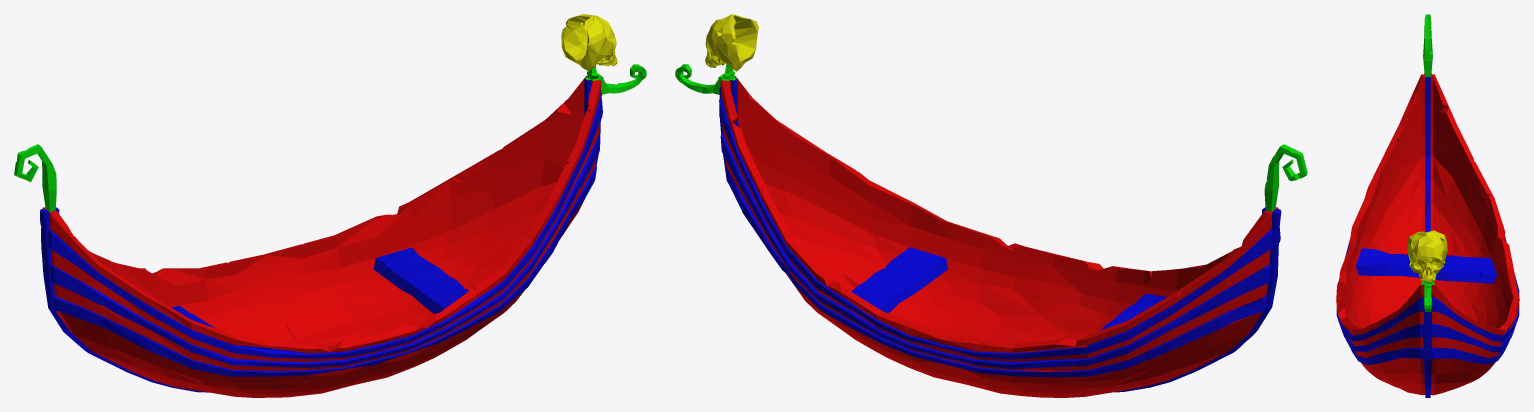
File: barca.fbx
The picture shows the model from 3 angles, left to right: view 1: azimuth 30°, elevation 25°; view 2: azimuth 150°, elevation 25°; view 3: azimuth 270°, elevation 25°; orthographic projection. The views are drawn at different scales.
Parts seen in each view (by area): view 1: boat_final; view 2: boat_final; view 3: boat_final.
Part boxes in pixels (x1=…): boat_final: x1=14, y1=14, x2=646, y2=397; boat_final: x1=675, y1=14, x2=1307, y2=397; boat_final: x1=1336, y1=14, x2=1519, y2=397.
Bounding box in the file's own units: 480 × 216 × 155.
